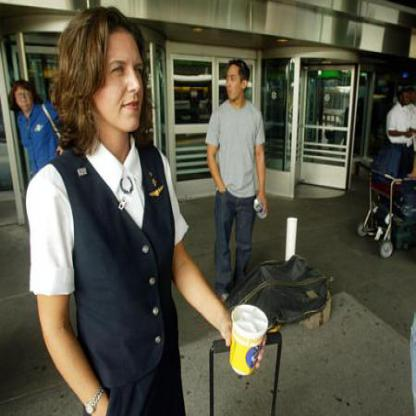face: (88, 12, 154, 136), (226, 62, 244, 101), (18, 83, 33, 110)
